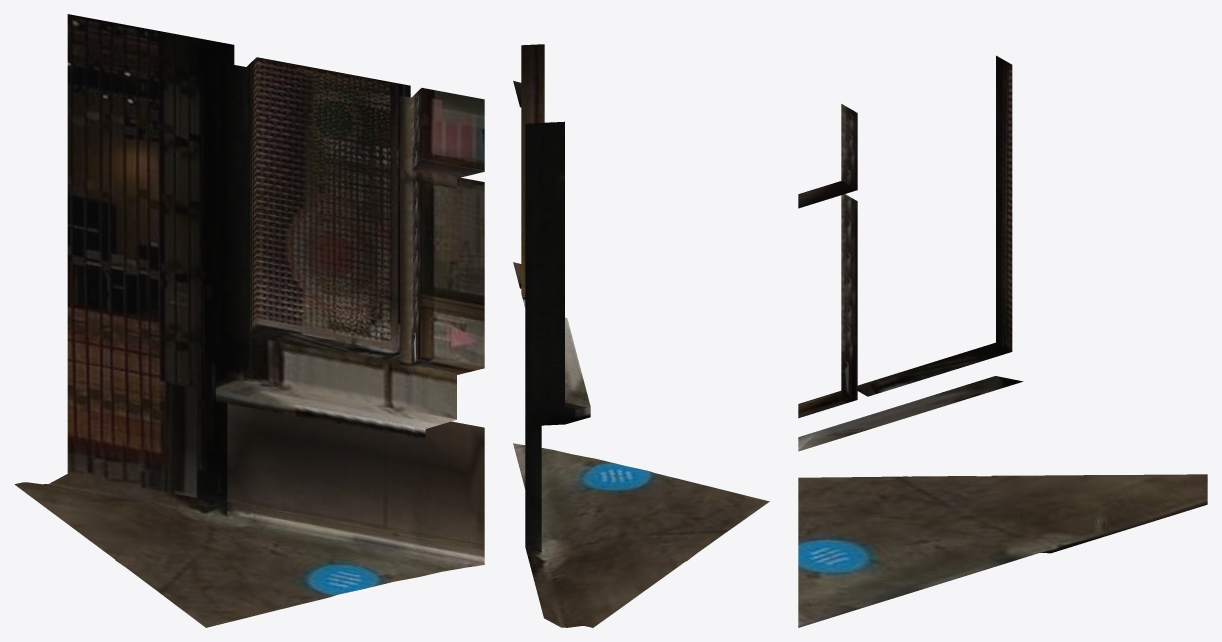
3 views of the same model, side by side, from view 1: azimuth 30°, elevation 25°; view 2: azimuth 150°, elevation 25°; view 3: azimuth 270°, elevation 25° (orthographic). The views are drawn at different scales.
Bounding box in the file's own units: 1.73 × 2.76 × 2.06.
1 material, 1 textured.
